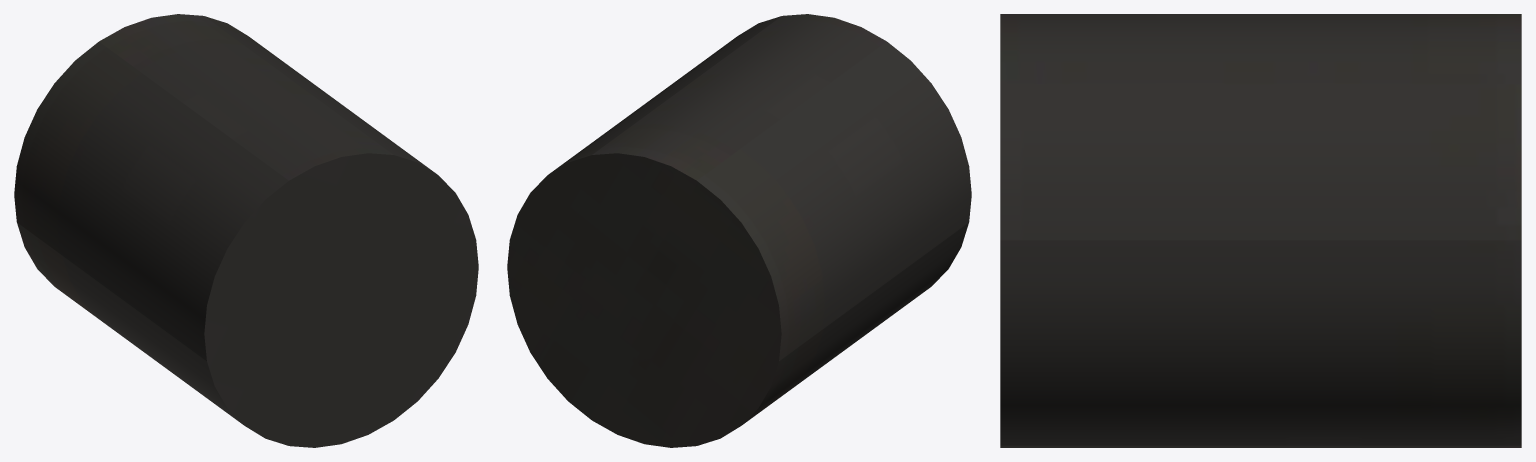
File: dial__dial_shaft.glb
3 renders of one model, left to right at view 1: azimuth 30°, elevation 25°; view 2: azimuth 150°, elevation 25°; view 3: azimuth 270°, elevation 25°, orthographic. The views are drawn at different scales.
Parts seen in each view (by area): view 1: geometry_0; view 2: geometry_0; view 3: geometry_0.
Boxes of the visible parts, x1,y1,x2,y2 form: geometry_0: [14, 14, 478, 447]; geometry_0: [507, 14, 971, 447]; geometry_0: [1000, 14, 1521, 447].
Size of the model in its own units: 0.01 by 0.01 by 0.012.
Materials: 1 (1 with a texture image).
